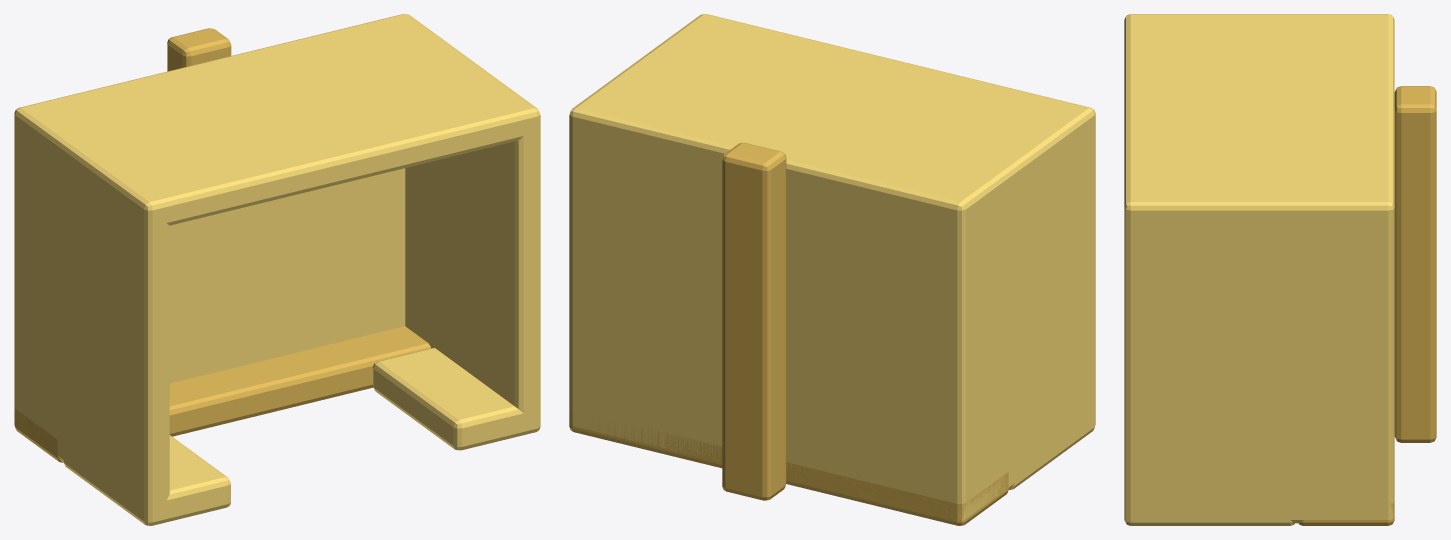
The model's file is gold_helmet_held.gltf.
3 renders of one model, left to right at view 1: azimuth 30°, elevation 25°; view 2: azimuth 150°, elevation 25°; view 3: azimuth 270°, elevation 25°, orthographic.
Parts seen in each view (by area): view 1: armor_gold_helmet_held; view 2: armor_gold_helmet_held; view 3: armor_gold_helmet_held.
Part boxes in pixels (<box>): armor_gold_helmet_held: <box>14,14,540,525</box>; armor_gold_helmet_held: <box>569,14,1095,525</box>; armor_gold_helmet_held: <box>1124,14,1436,525</box>.
Bounding box in the file's own units: 0.13 × 0.1061 × 0.0889.
